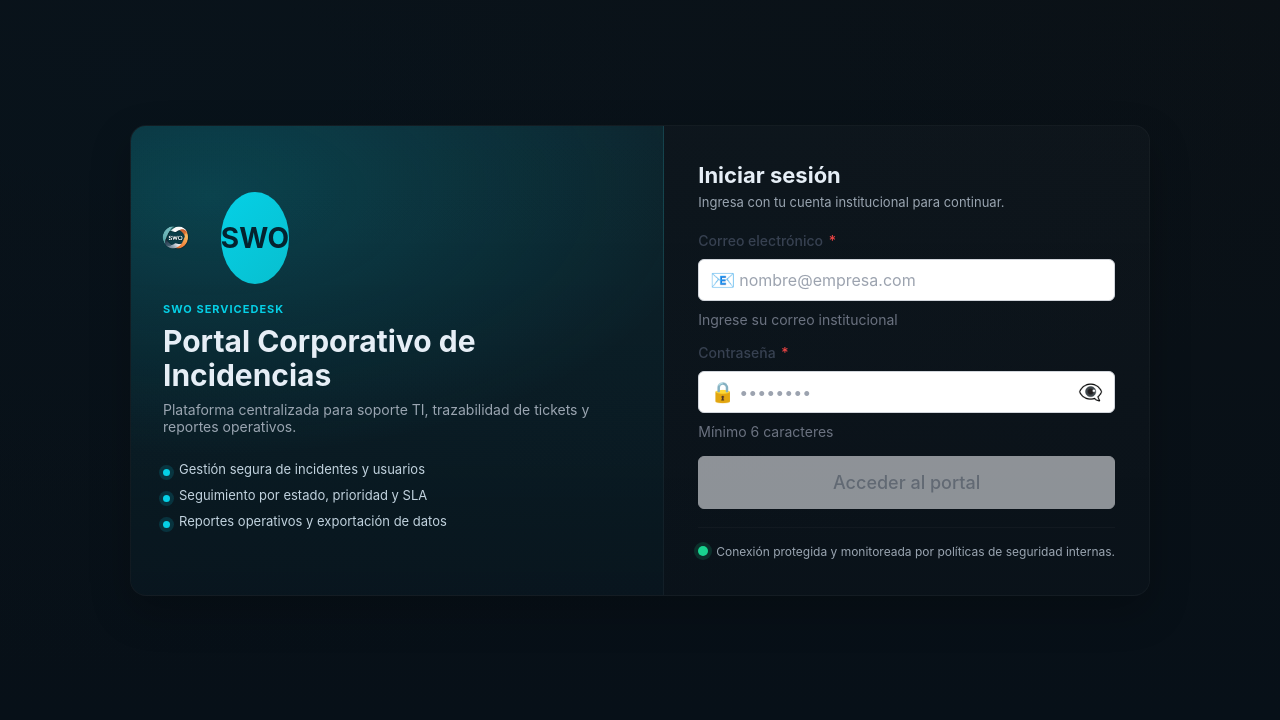
Test: Caso 005 - Reportes: Carga masiva 500 tickets — Rendimiento y estabilidad UI › 005-B: Tarjetas métricas muestran Abiertas, En Progreso y Cerradas correctamente
Type "master@swo.com" into the field labelled "Correo electrónico *" at (907, 280), box [698,259,1115,301]
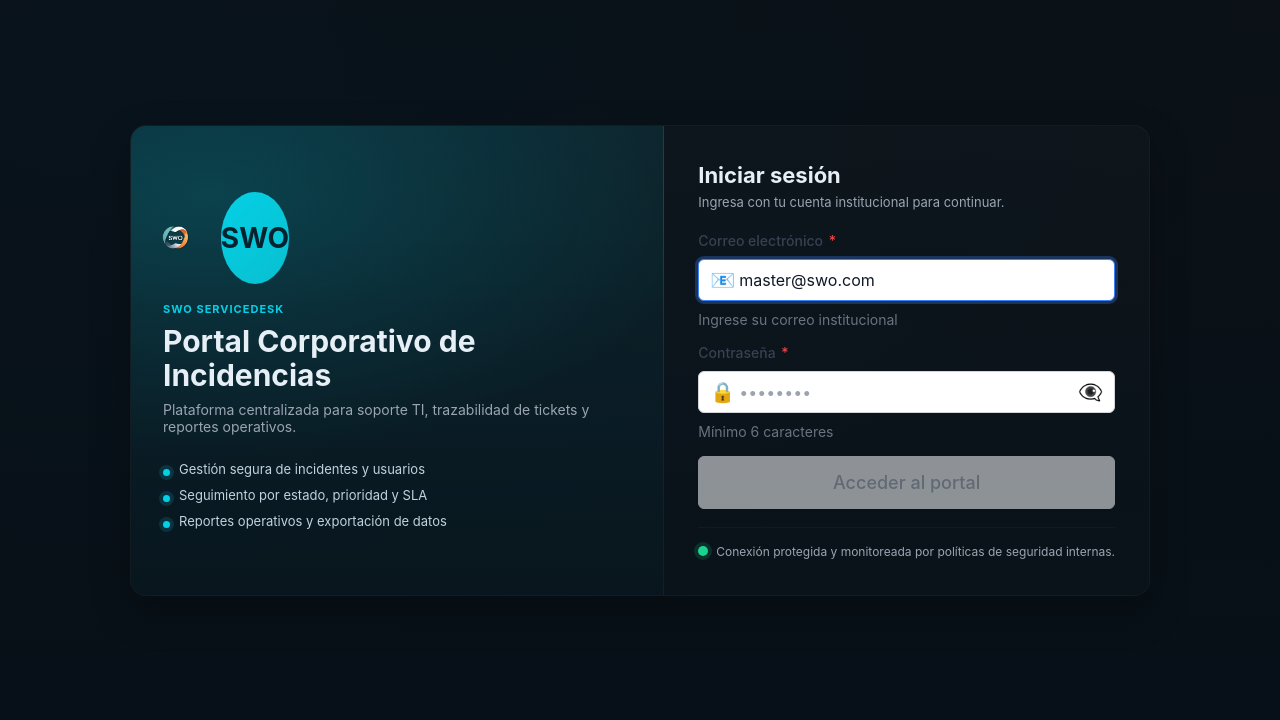
Type "123456" into the password field labelled "Contraseña *" at (907, 392), box [698,371,1115,413]
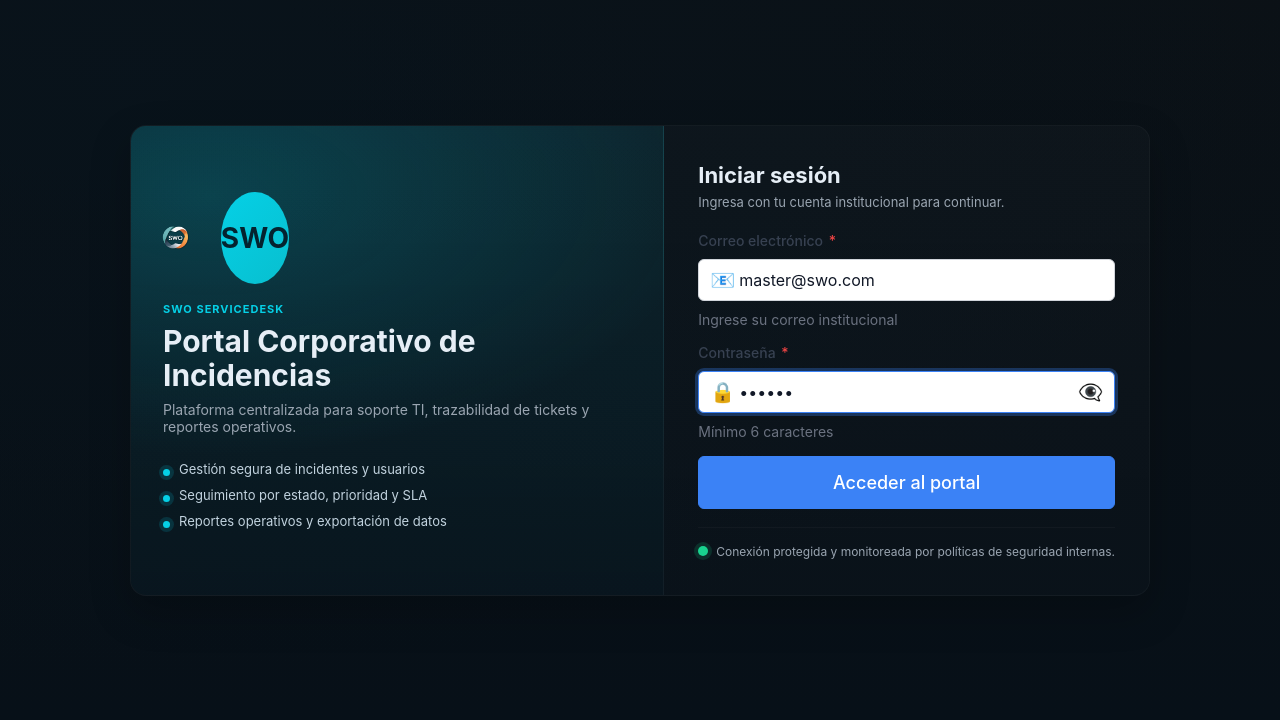
Click the submit button at (907, 483), box [698,456,1115,509]
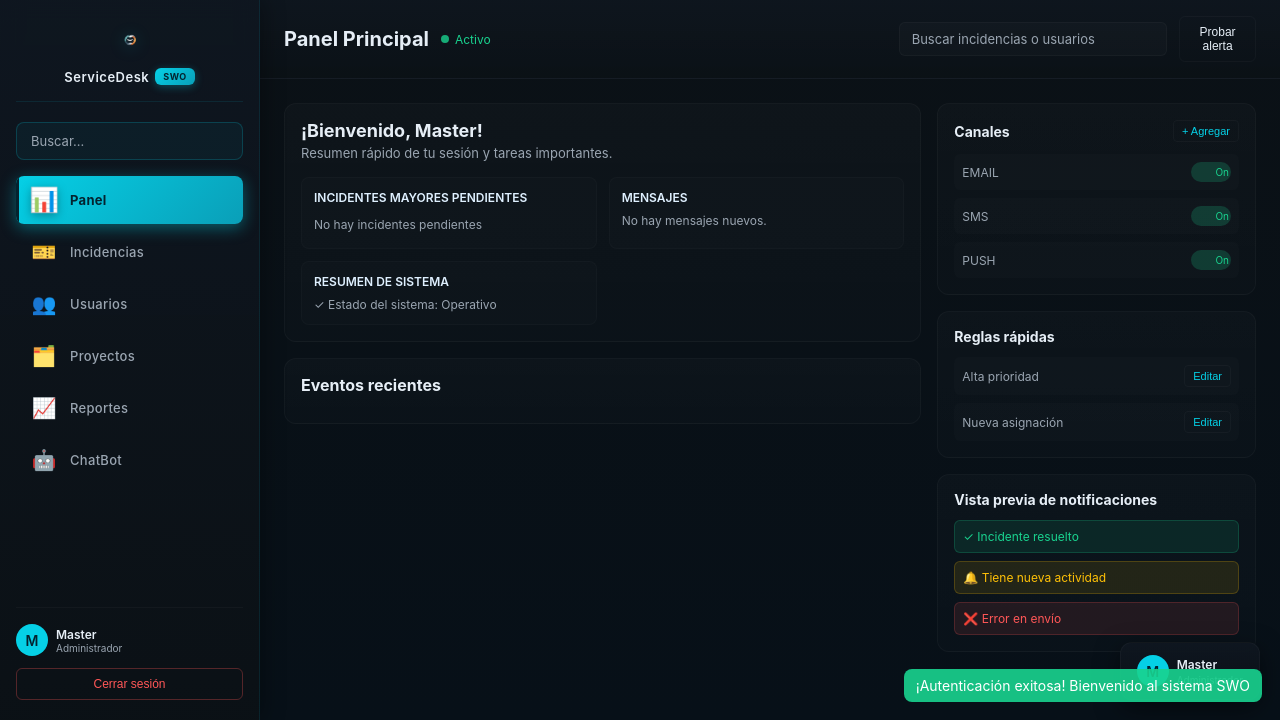
Open "/reports"
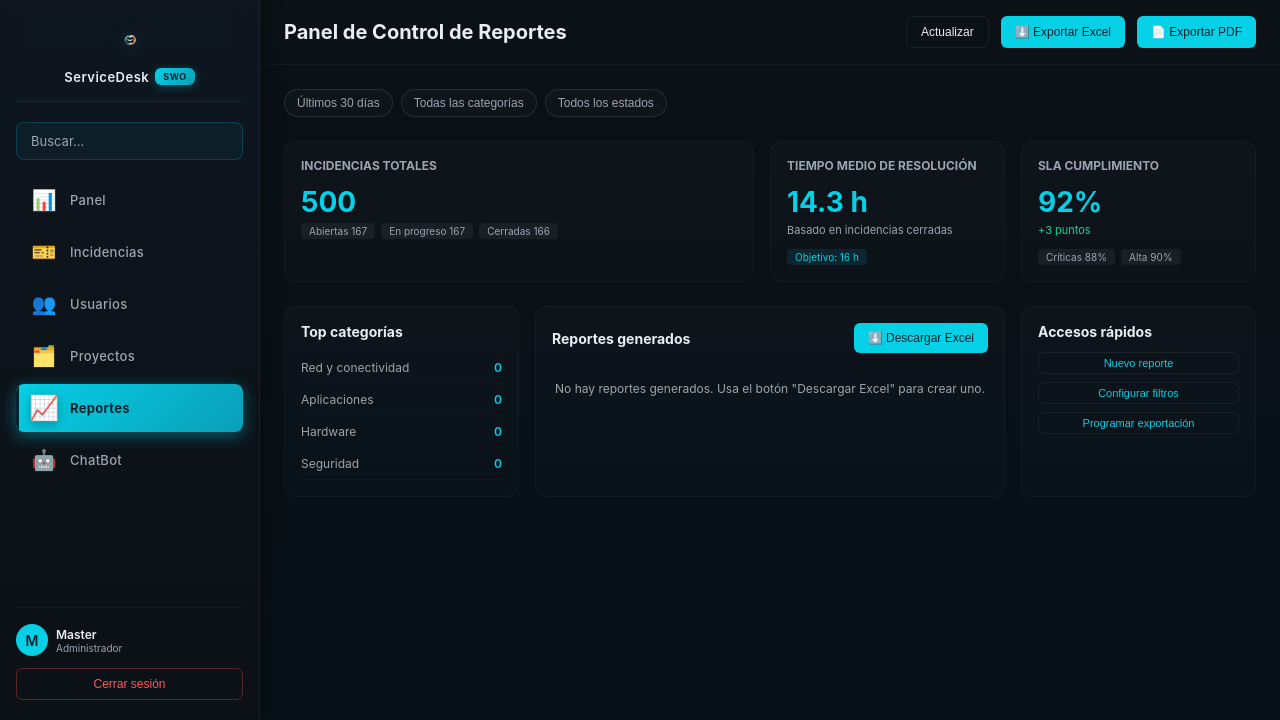
Expected: the text with class "metric-value" reads "500", [301,185,356,219]
Expected: the text "Abiertas 167" is shown, [301,223,375,239]
Expected: the text "En progreso 167" is shown, [381,223,473,239]
